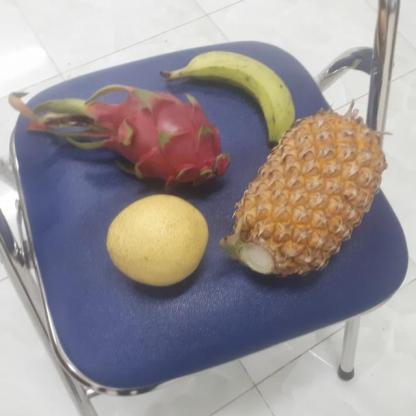banana: (173, 48, 300, 150)
guava: (109, 197, 217, 286)
pineapple: (223, 110, 384, 281)
pitaya: (90, 87, 232, 195)
